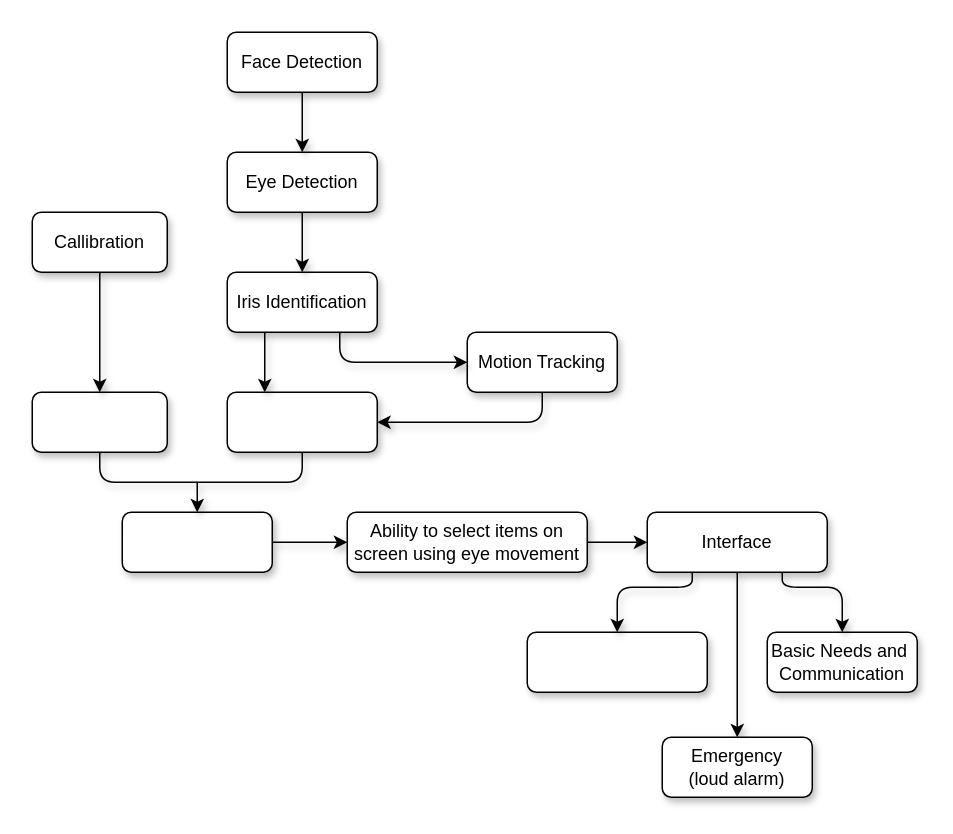
Image size: 953x834. Some labels were removed from this diagram. The shapes that lost their labels are listed below. From the top down, each one's centre as x and y in pixels, then its label:
the point at 100,424: Four points on the screen
the point at 303,424: Iris Position
the point at 198,544: Gaze Position
the point at 618,664: Context based text prediction
